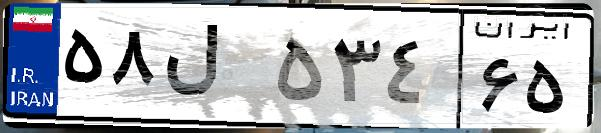3: (330, 28, 385, 110)
4: (385, 28, 445, 110)
5: (270, 28, 330, 110), (57, 26, 110, 100), (525, 38, 570, 115)
6: (475, 38, 525, 113)
8: (110, 28, 158, 98)
ل: (158, 20, 270, 120)
